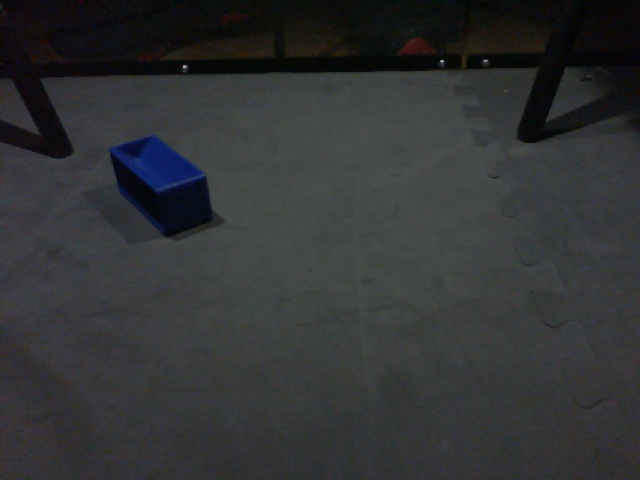BlueSample: (109, 131, 217, 240)
